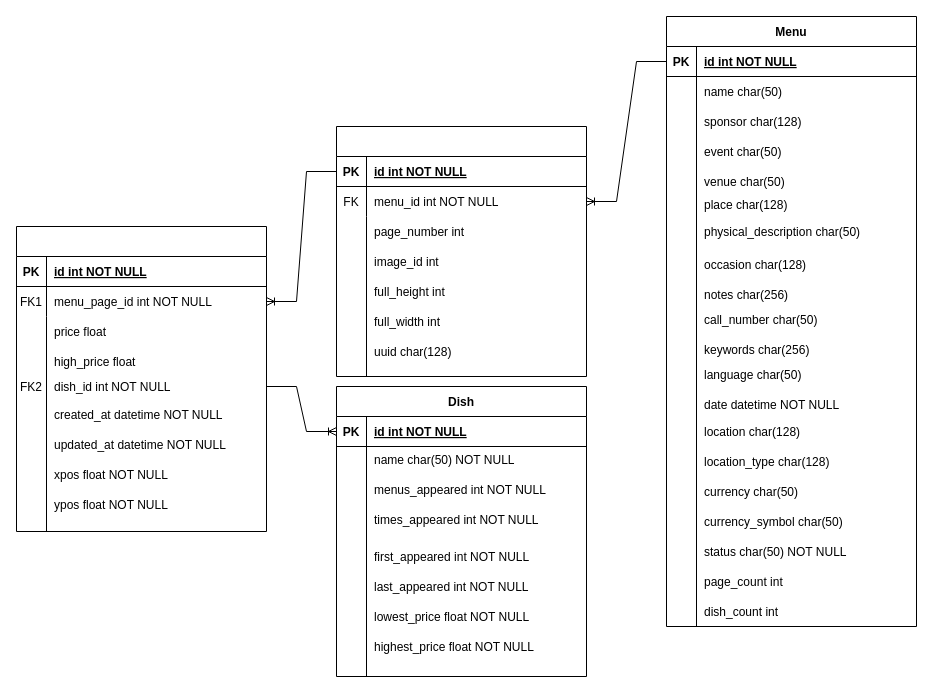
The diagram is 933 pixels wide and 693 high, and some of its shapes have lost their labels. The box of each missing label's shape, as (x1, y1, x2, y2) in pixels:
MenuItem: (16, 226, 266, 532)
MenuPage: (336, 126, 586, 376)
